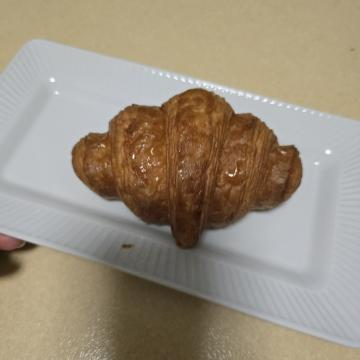croissant: (72, 46, 258, 292)
